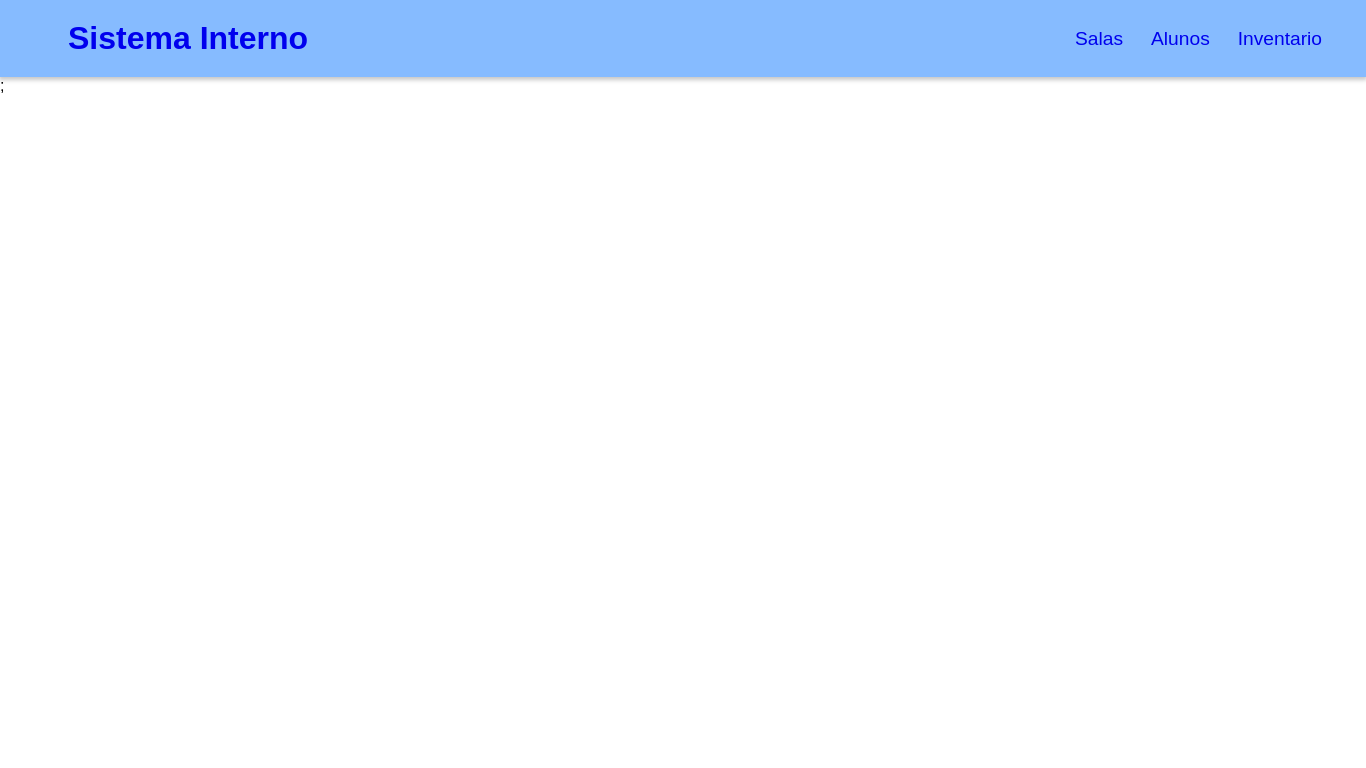
Scenario: e2e specs › when the user is in another page and select the rooms page › changes the page that the user is seeing to the first rooms page
Click the list item with test id "inventory": (1280, 39) top-left (1234, 24), bottom-right (1326, 54)
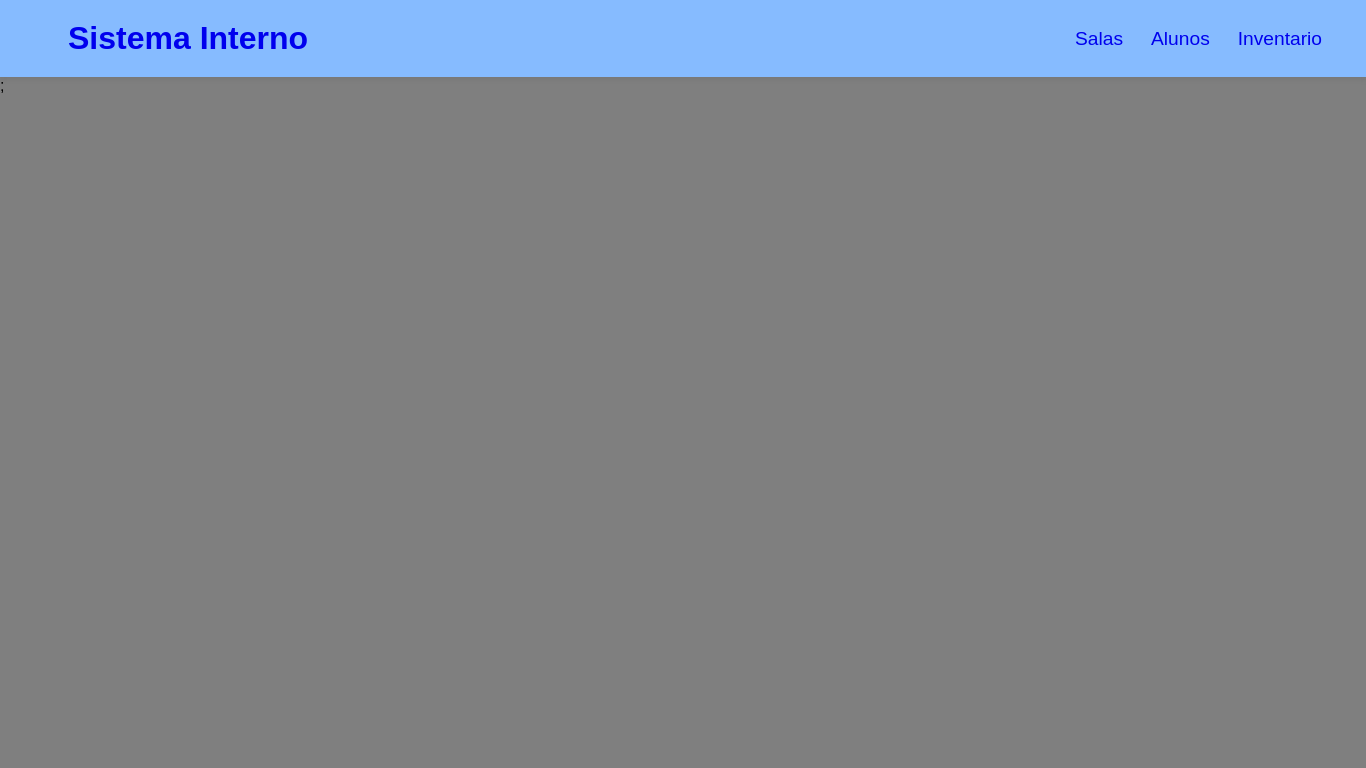
Click the list item with test id "rooms": (1099, 39) top-left (1071, 24), bottom-right (1127, 54)
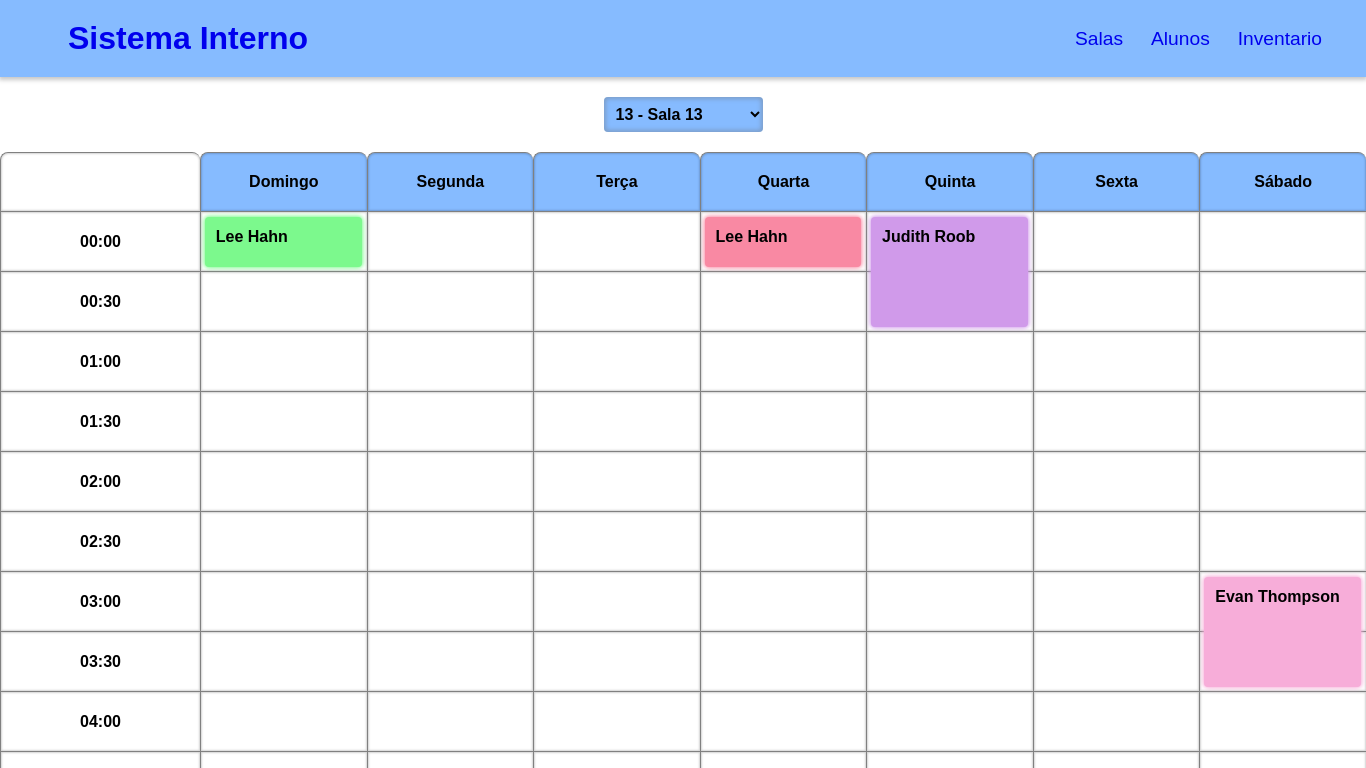
Check: the dropdown with test id "select-room" shows "13 - Sala 13", box top-left (604, 97), bottom-right (763, 132)
